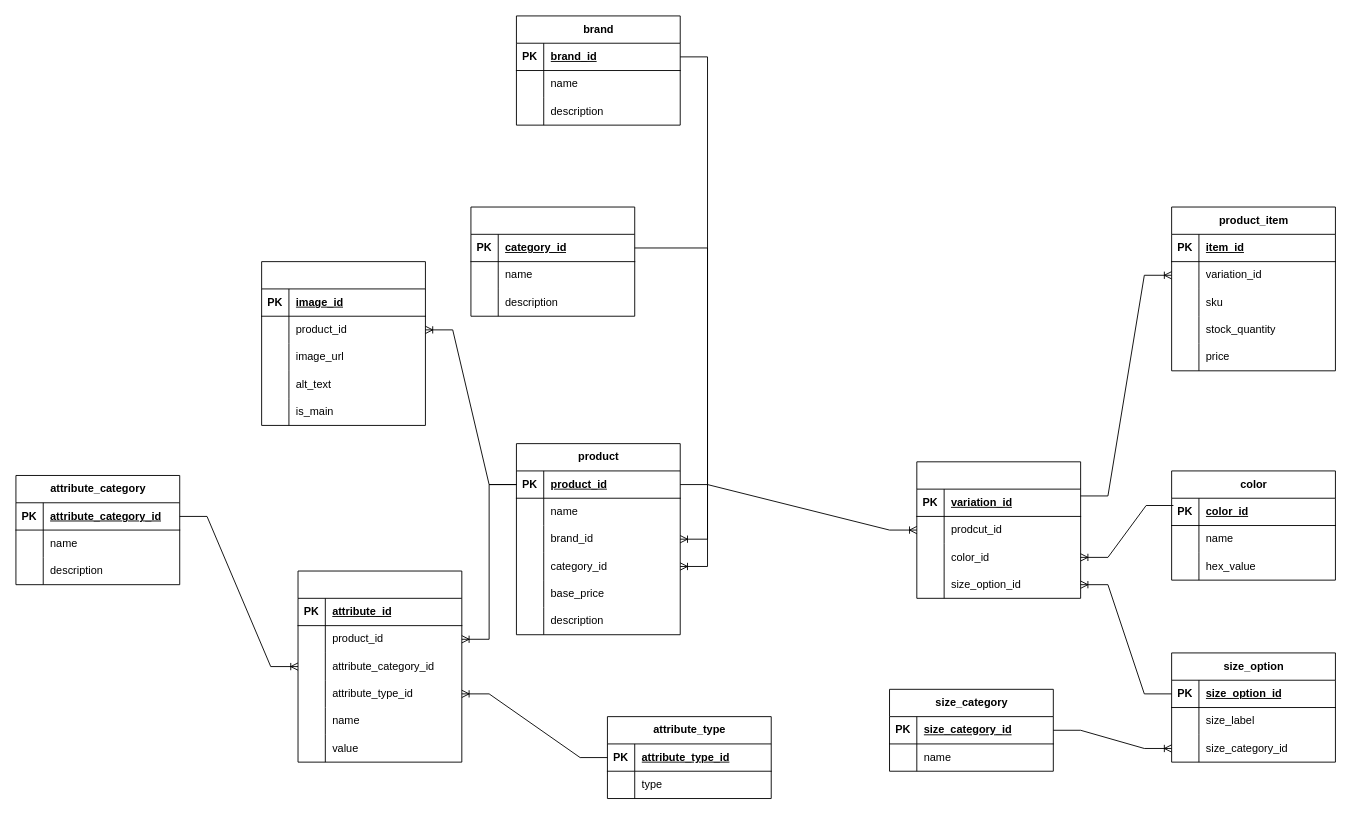
Image size: 1351x814. Some labels were removed from this diagram. Here are the shapes that lost their labels. From the top down, the box of each, then its label:
(470, 206, 635, 316): product_category
(261, 261, 425, 425): product_image
(916, 461, 1081, 598): product_variation
(297, 570, 462, 762): product_attribute
